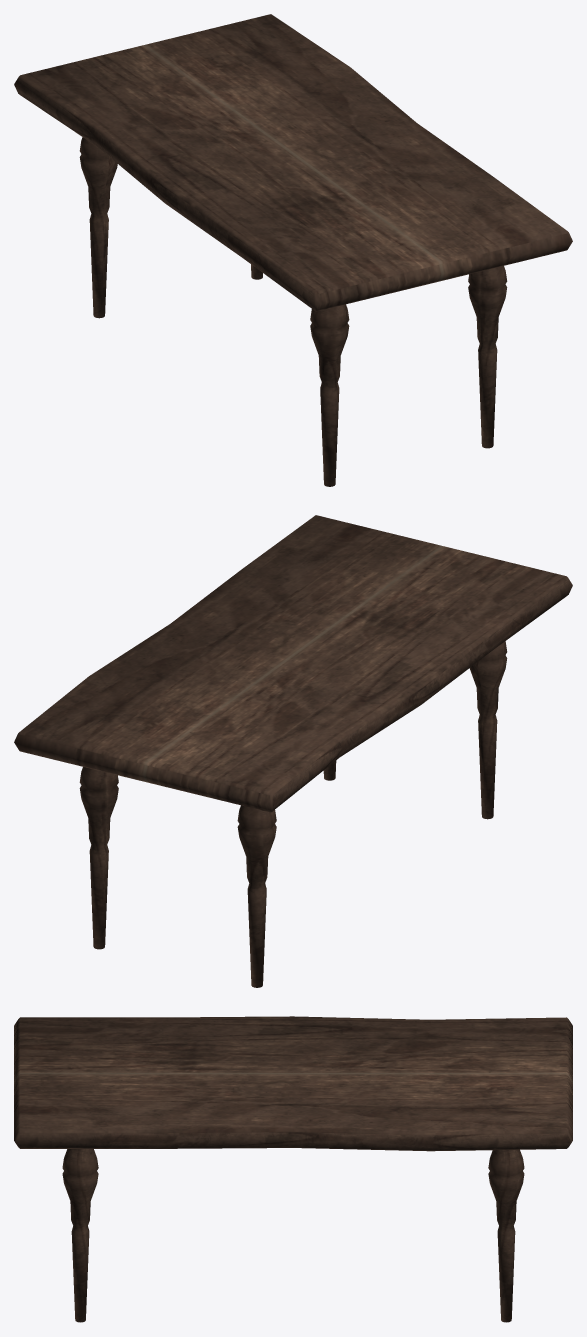
The model's file is Table_Wood.fbx.
3 views of the same model, one above another, from view 1: azimuth 30°, elevation 25°; view 2: azimuth 150°, elevation 25°; view 3: azimuth 270°, elevation 25° (orthographic). The views are drawn at different scales.
Parts seen in each view (by area): view 1: Cube.007; view 2: Cube.007; view 3: Cube.007.
Part boxes in pixels (x1,y1,x2,y2): Cube.007: [14, 14, 572, 486]; Cube.007: [14, 515, 572, 987]; Cube.007: [14, 1016, 572, 1322].
Size of the model in its own units: 2.09 by 4.12 by 1.71.
